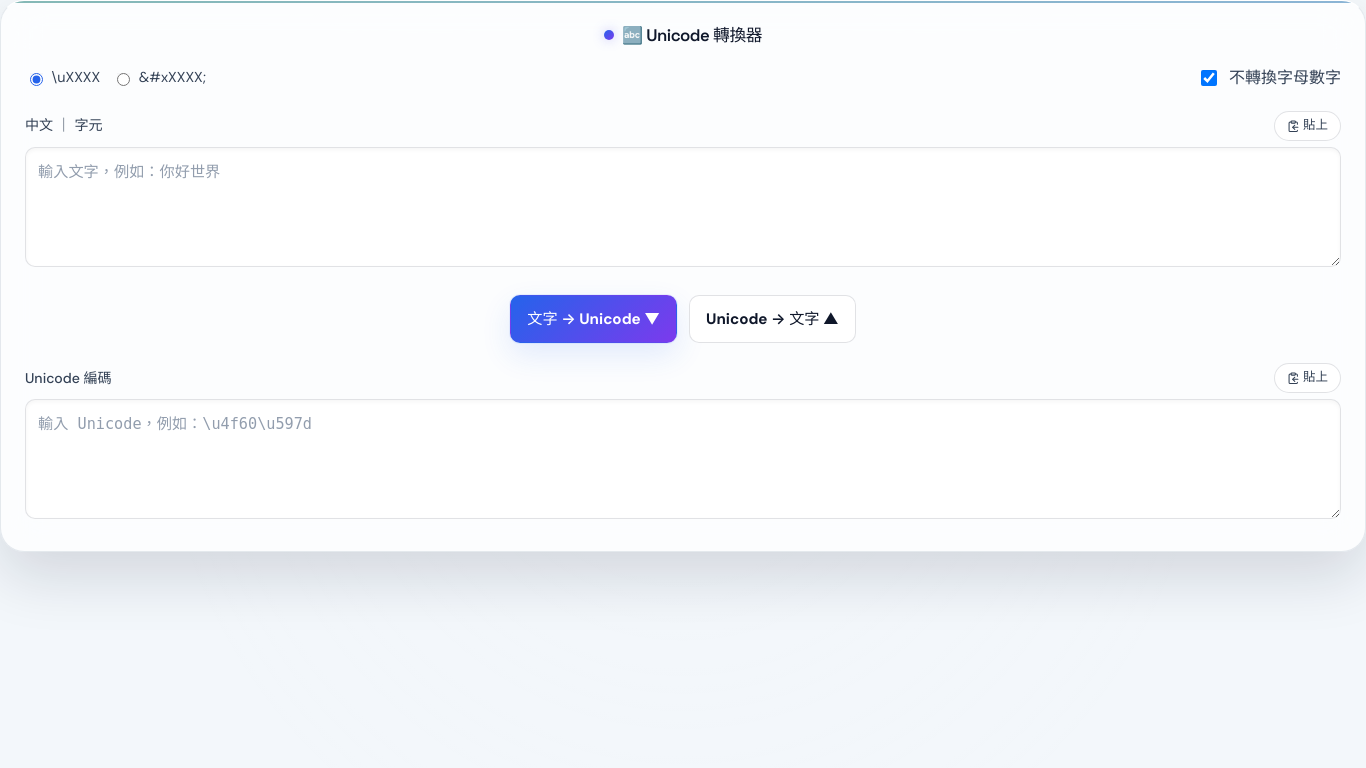
Scenario: UnicodeConverter.vue › Unicode → 文字 › Unicode 編碼應轉為 中文字
The image size is (1366, 768).
Type "\\u4f60\\u597d" into the text box with id "unicode-raw-input" at (683,459), box [25, 399, 1341, 519]
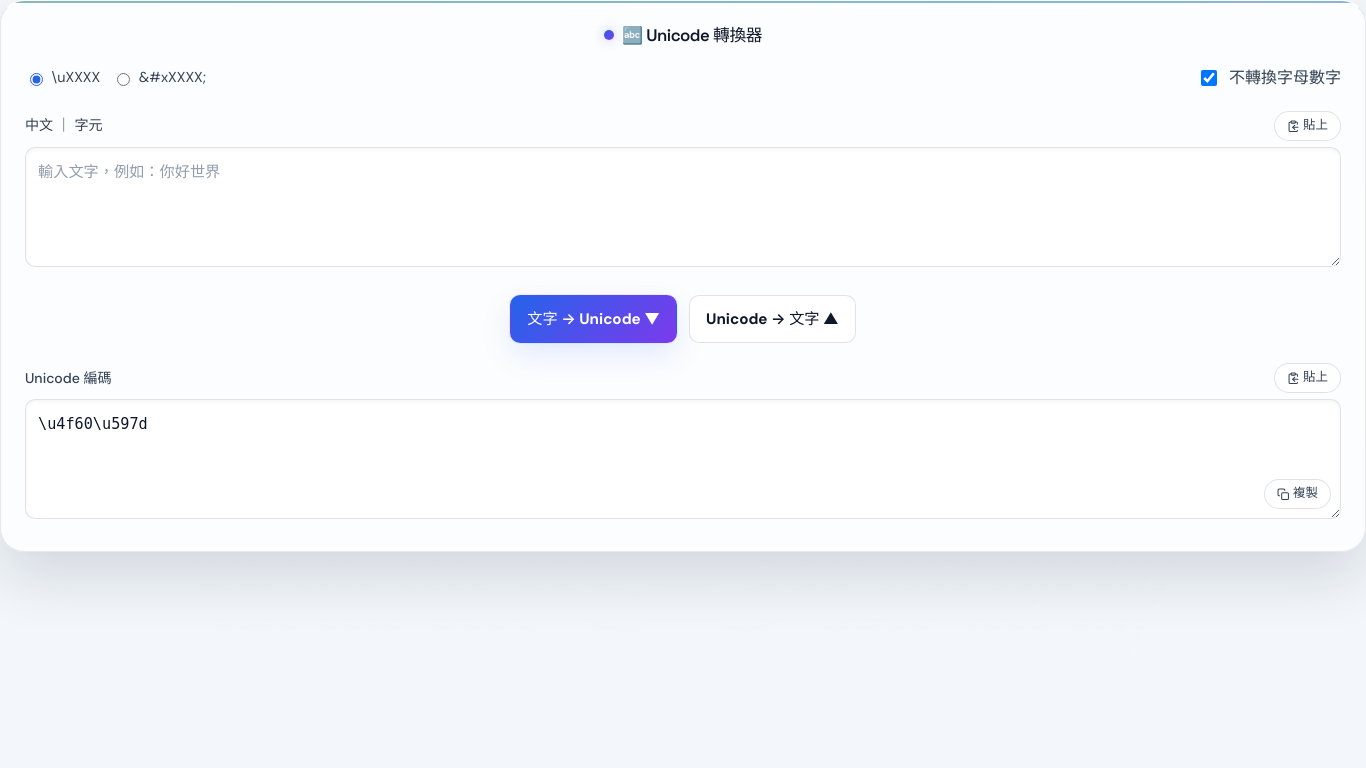
Click the button "Unicode → 文字 ▲" at (772,319), box [689, 295, 856, 343]
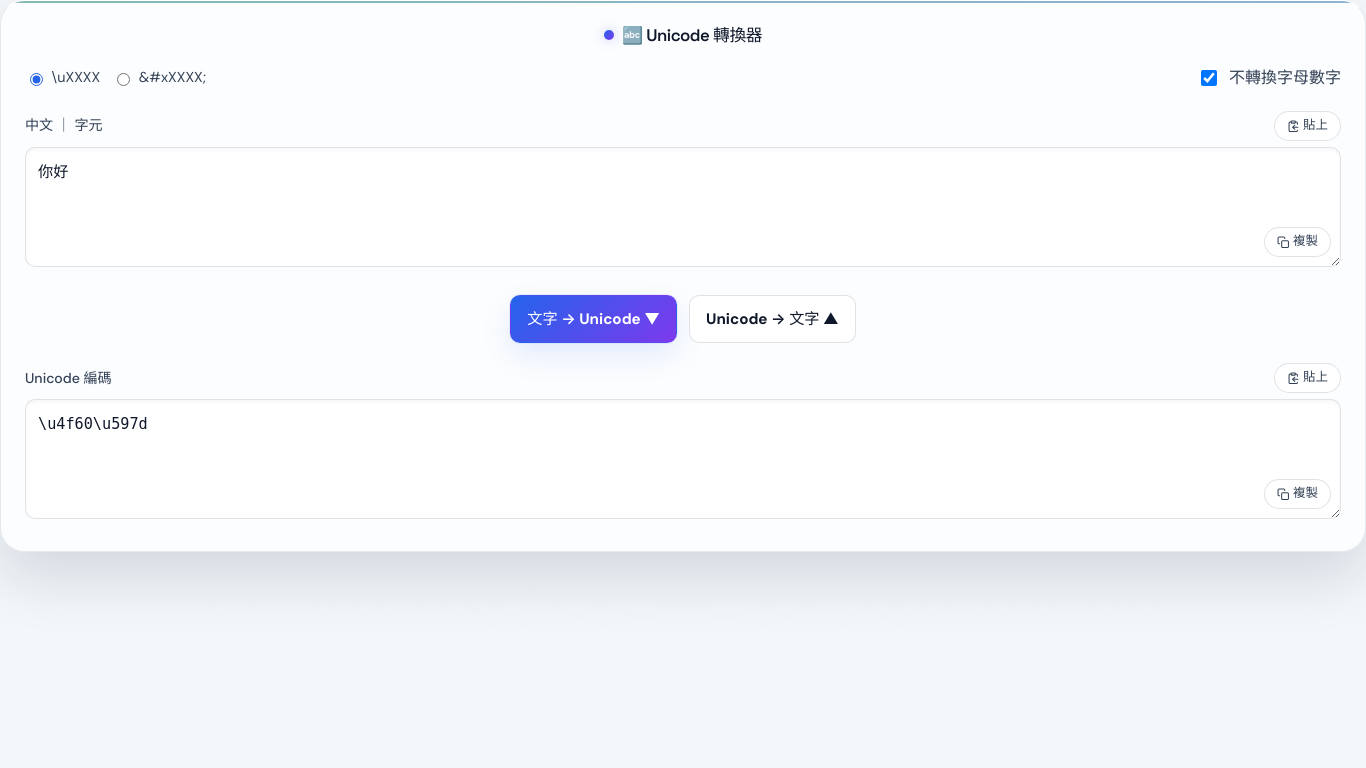
Now the text box with id "unicode-text-input" holds "你好", box [25, 147, 1341, 267]
